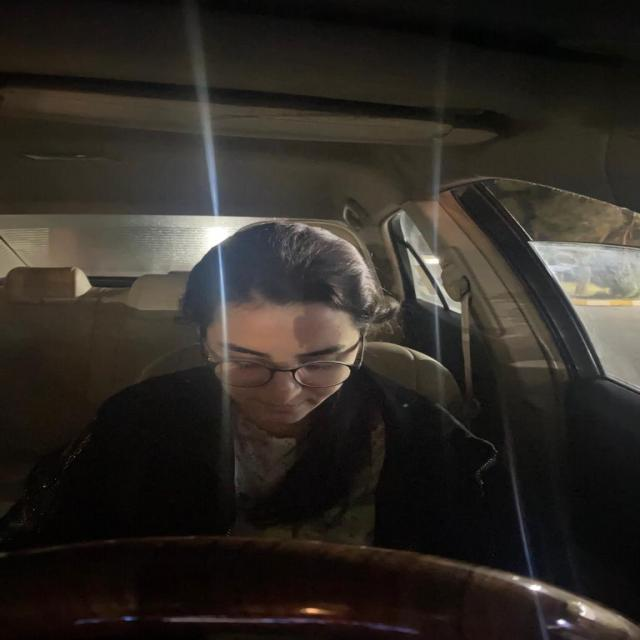drowsy: (182, 220, 382, 430)
